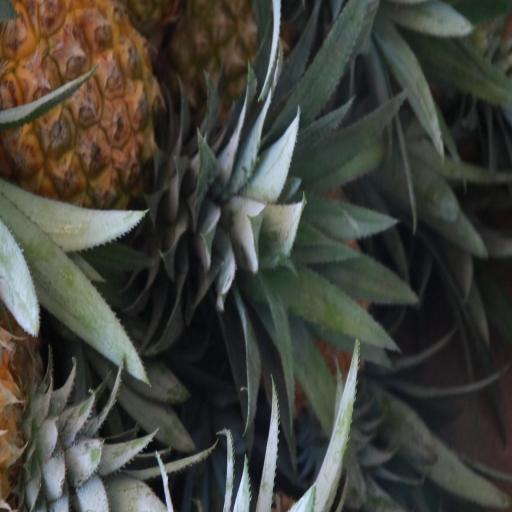Pineapple - v8 v1: (1, 0, 196, 209)
